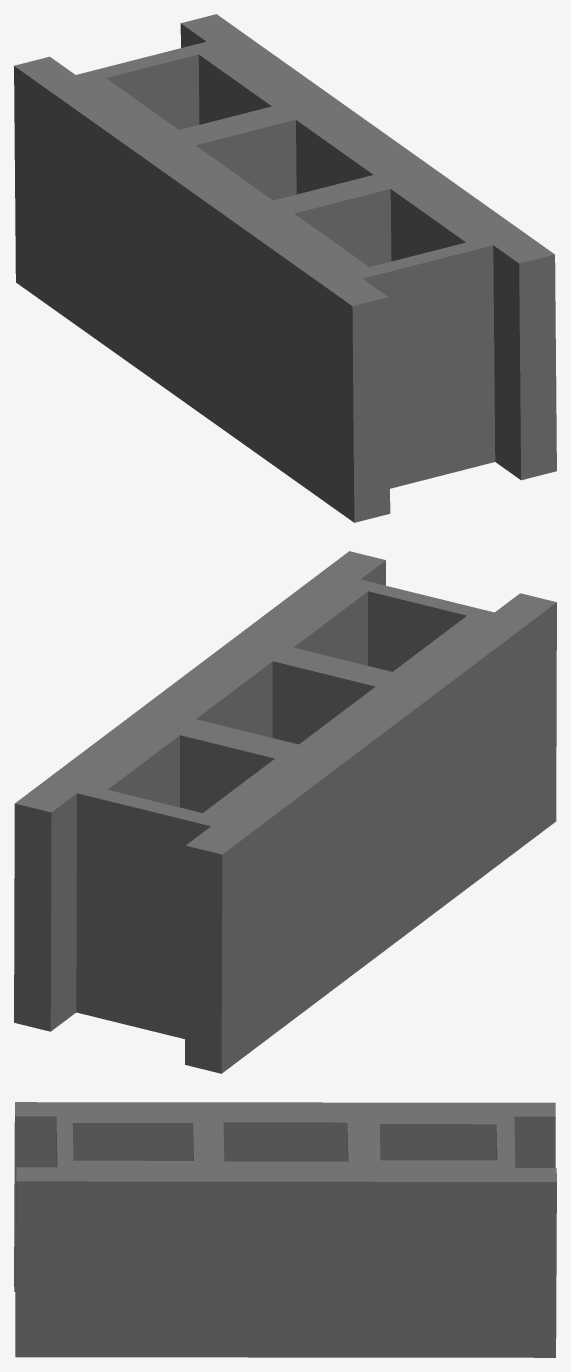
File: bloque concreto.fbx
3 renders of one model, top to bottom at view 1: azimuth 30°, elevation 25°; view 2: azimuth 150°, elevation 25°; view 3: azimuth 270°, elevation 25°, orthographic. The views are drawn at different scales.
Parts seen in each view (by area): view 1: Briques.012; view 2: Briques.012; view 3: Briques.012.
Part boxes in pixels (x1,y1,x2,y2): Briques.012: [14, 14, 556, 522]; Briques.012: [14, 551, 556, 1073]; Briques.012: [14, 1102, 556, 1357].
Bounding box in the file's own units: 36.16 × 36.47 × 100.
1 material, 1 textured.
